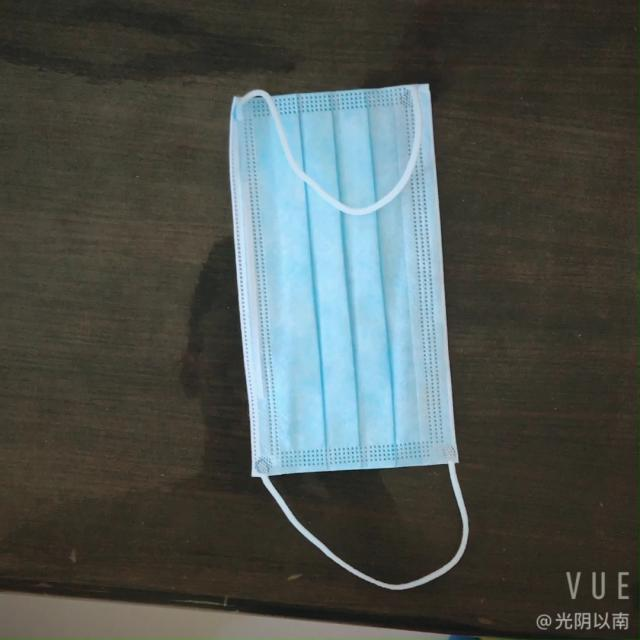face mask: (223, 79, 454, 486)
